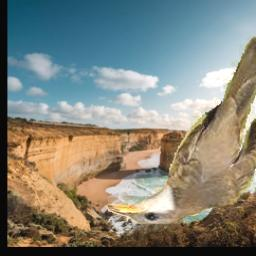Cuckoo: (107, 37, 256, 225)
